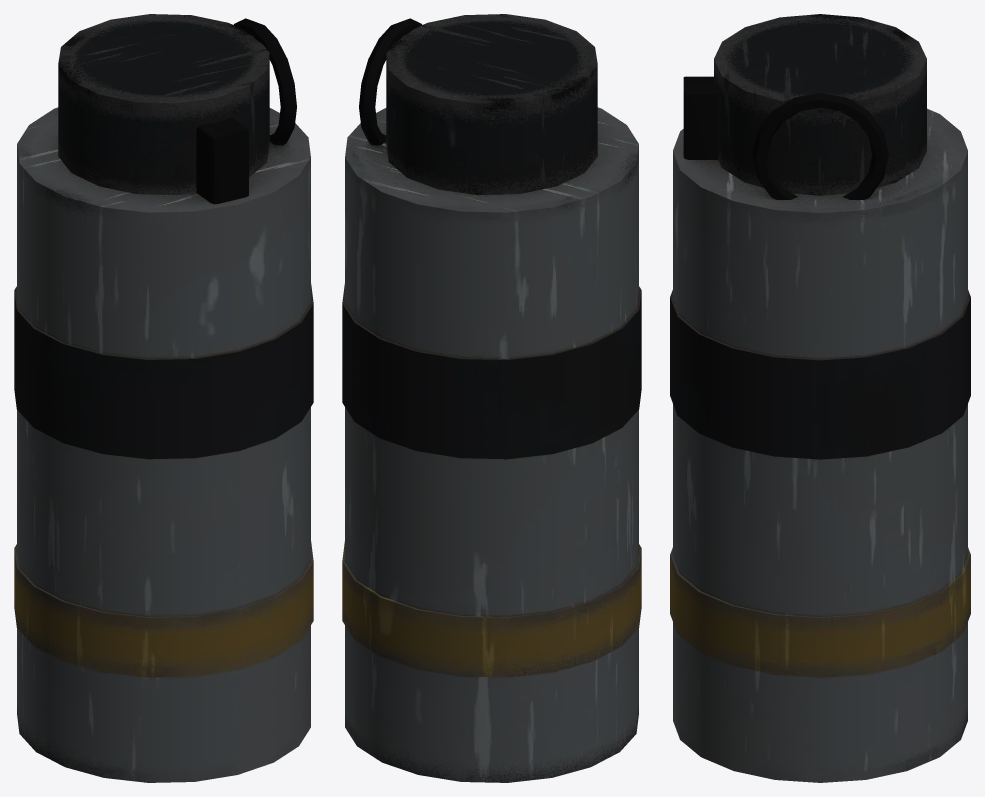
Rendered from flash.glb.
3 renders of one model, left to right at view 1: azimuth 30°, elevation 25°; view 2: azimuth 150°, elevation 25°; view 3: azimuth 270°, elevation 25°, orthographic.
Visible parts, largest first — view 1: body_body, body_metal, body_receiver; view 2: body_body, body_metal, body_receiver; view 3: body_body, body_metal, body_receiver.
Boxes of the visible parts, x1,y1,x2,y2 form: body_body: [17, 107, 310, 782]; body_metal: [14, 18, 313, 677]; body_receiver: [58, 14, 269, 195]; body_body: [345, 107, 638, 782]; body_metal: [342, 18, 641, 677]; body_receiver: [386, 14, 597, 195]; body_body: [673, 108, 967, 782]; body_metal: [670, 76, 970, 677]; body_receiver: [714, 14, 926, 195].
Bounding box in the file's own units: 0.055 × 0.136 × 0.055.
3 materials, 3 textured.
